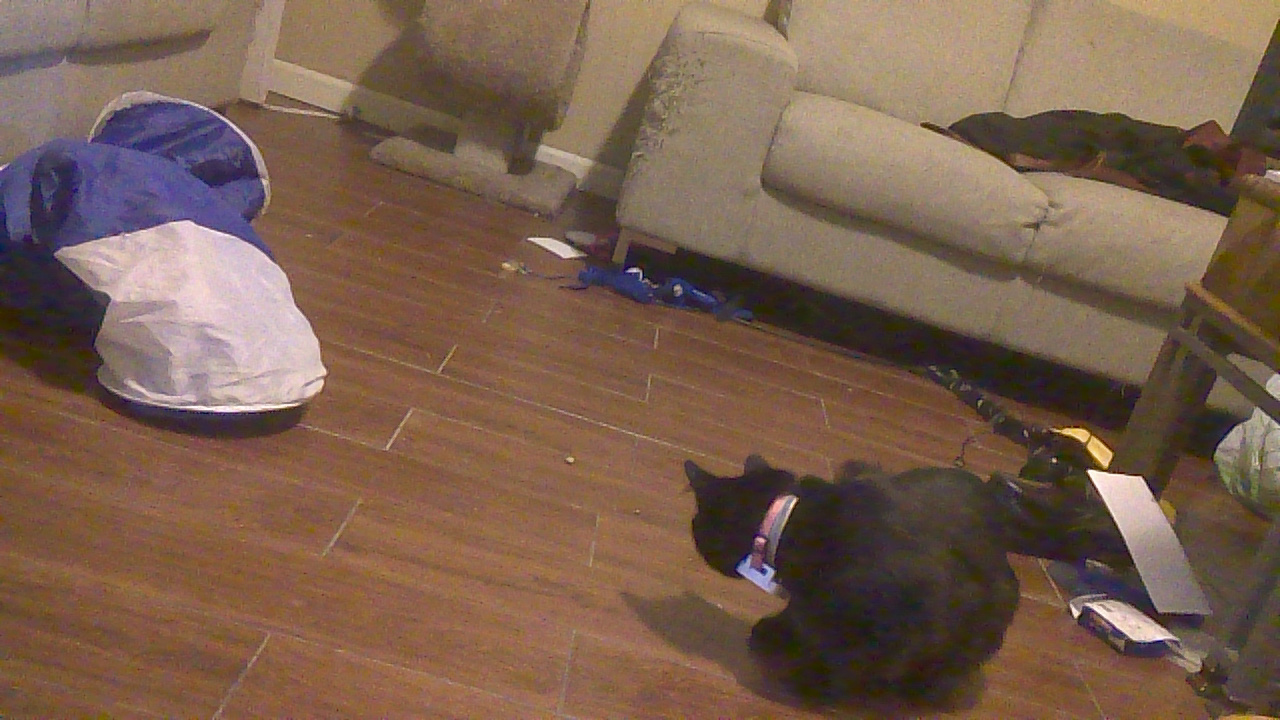cat: (670, 440, 1021, 705)
